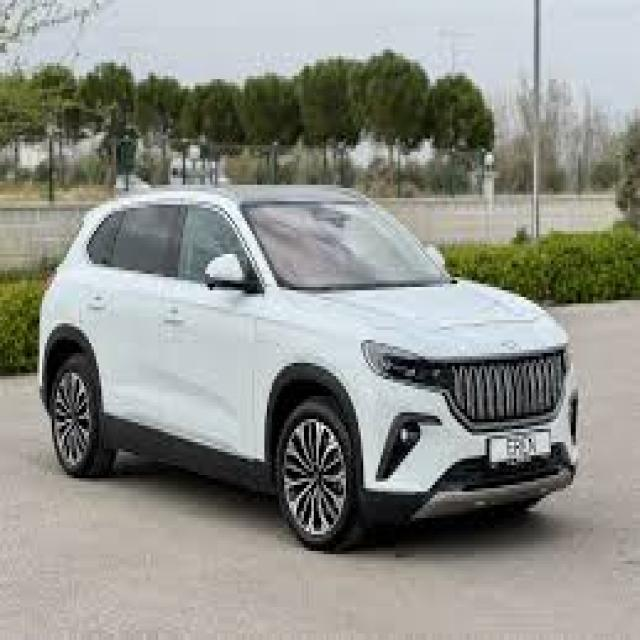togg: (37, 181, 582, 556)
